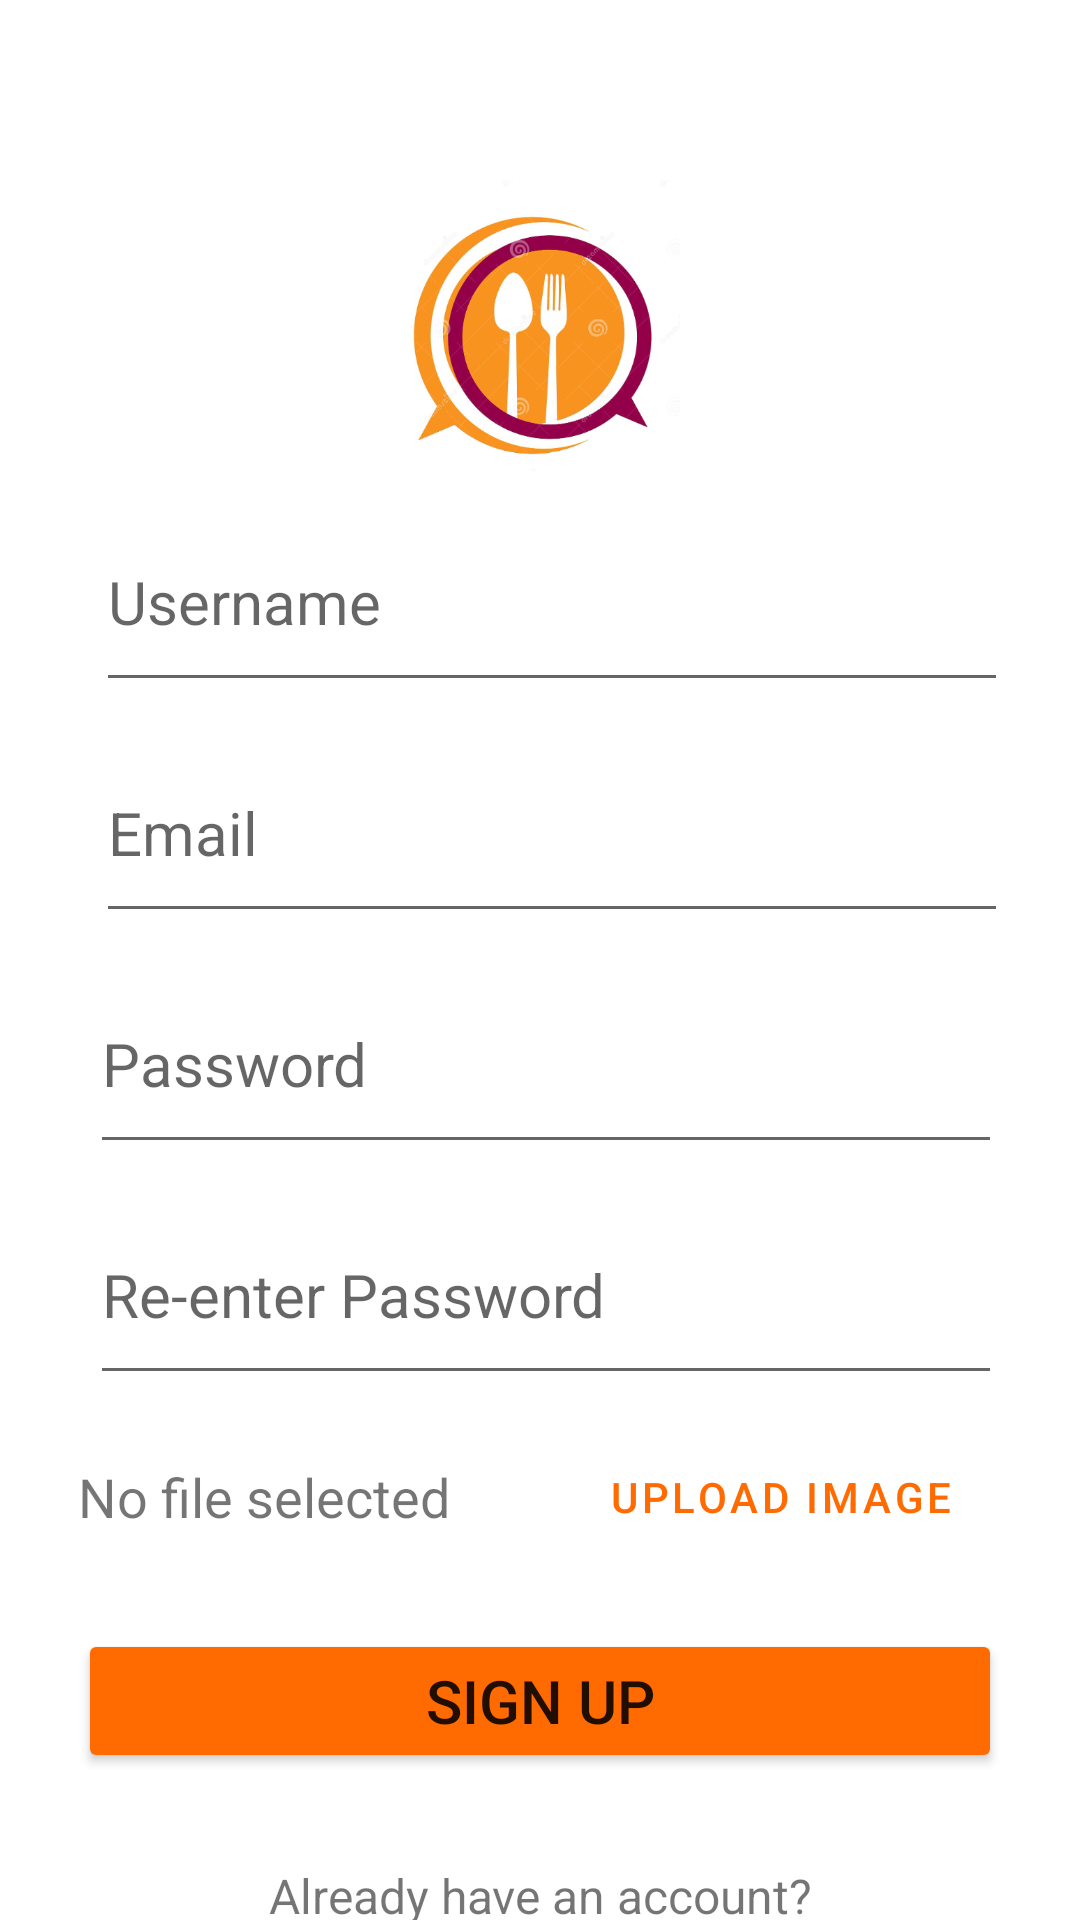

Locate icon controls on the screen. Image size 1080 x 1920, boxes as detection(x1, y1, x2, y2).
plate: detection(413, 216, 652, 454)
